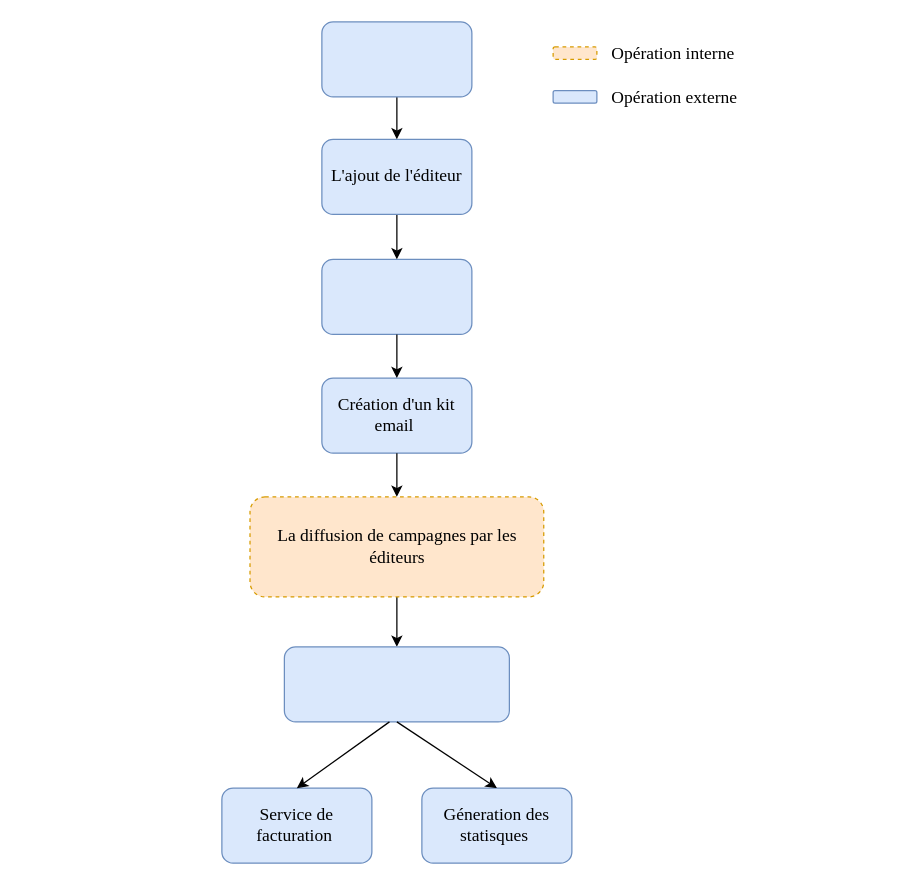
Some shapes in this 924 by 885 pixel diagram are drawn without their labels. The shapes that lost their labels are listed below. From the top down, each one's box as (x1, y1, x2, y2) in pixels, then its label:
(321, 21, 472, 97): L'ajout de l'annonceur
(321, 258, 472, 334): Création de la campagne
(283, 646, 509, 722): Filtrage par le système de blacklist
